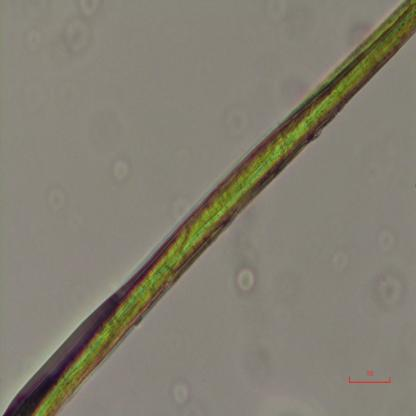Background material: (65, 0, 103, 56), (372, 278, 407, 314), (233, 262, 258, 298), (170, 378, 195, 408), (109, 157, 132, 186)
Microfibre: (13, 0, 416, 416)
